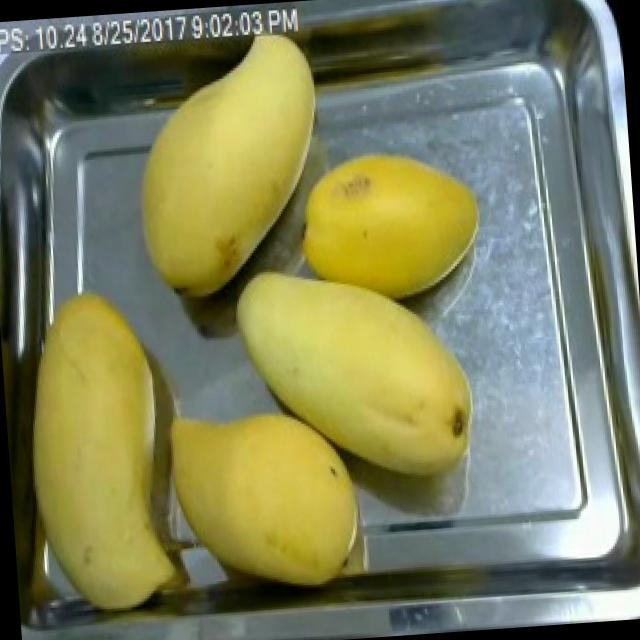fruit: (220, 247, 490, 502), (3, 278, 200, 626), (115, 21, 348, 311), (148, 392, 375, 607), (282, 132, 494, 320)
